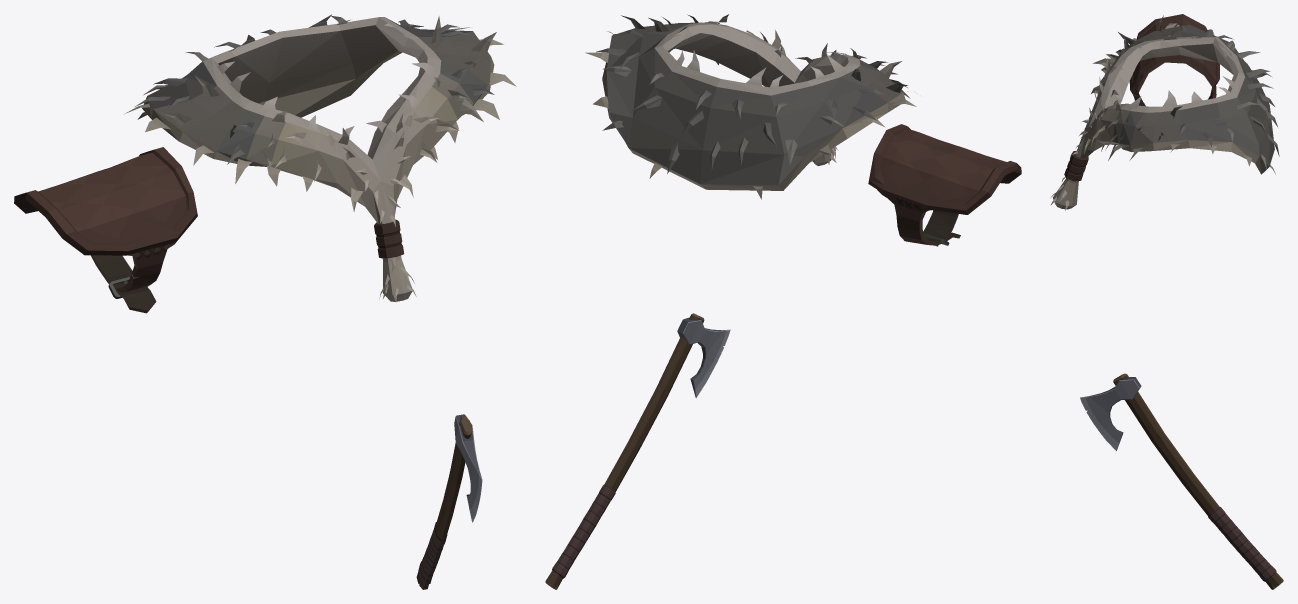
Rendered from vikingArmorUpperArm.glb.
3 views of the same model, side by side, from view 1: azimuth 30°, elevation 25°; view 2: azimuth 150°, elevation 25°; view 3: azimuth 270°, elevation 25° (orthographic). The views are drawn at different scales.
Parts seen in each view (by area): view 1: wolfHelmet.003, vikingArmorUpperArm, bluntLightVikingAxe.001; view 2: wolfHelmet.003, vikingArmorUpperArm, bluntLightVikingAxe.001; view 3: wolfHelmet.003, bluntLightVikingAxe.001, vikingArmorUpperArm.
Boxes of the visible parts, x1=… form: wolfHelmet.003: x1=125, y1=14, x2=516, y2=302; vikingArmorUpperArm: x1=14, y1=147, x2=197, y2=313; bluntLightVikingAxe.001: x1=416, y1=414, x2=482, y2=589; wolfHelmet.003: x1=585, y1=14, x2=916, y2=199; vikingArmorUpperArm: x1=868, y1=124, x2=1021, y2=246; bluntLightVikingAxe.001: x1=545, y1=313, x2=730, y2=589; wolfHelmet.003: x1=1050, y1=15, x2=1279, y2=210; bluntLightVikingAxe.001: x1=1080, y1=373, x2=1283, y2=589; vikingArmorUpperArm: x1=1129, y1=14, x2=1219, y2=106.
Bounding box in the file's own units: 0.8093 × 1.04 × 0.4699.
